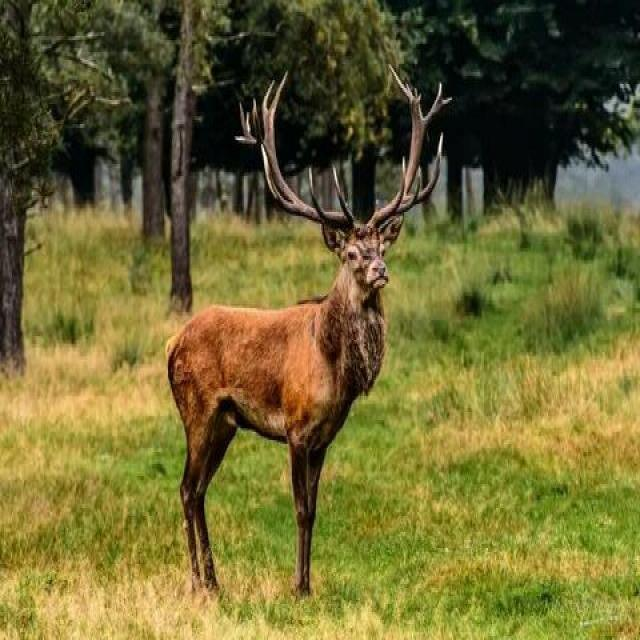deer: (152, 139, 421, 574)
